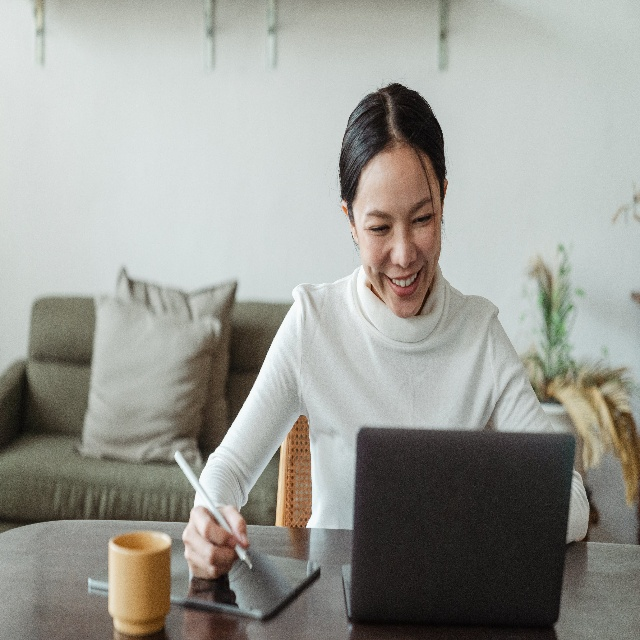Sin_guantes: (182, 502, 250, 578)
